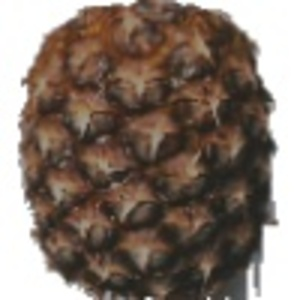abacaxi: (13, 2, 283, 298)
